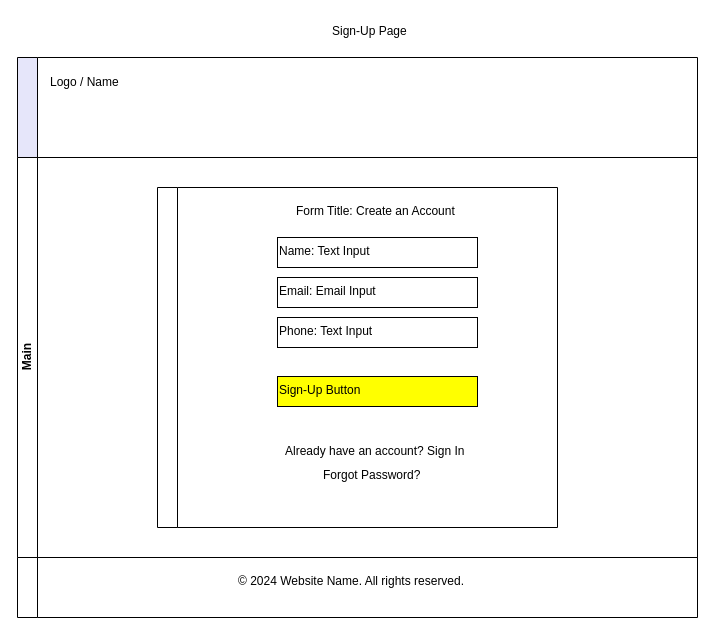
The diagram is 715 pixels wide and 635 high, and some of its shapes have lost their labels. The shapes that lost their labels are listed below. From the top down, each one's box as (x1, y1, x2, y2) in pixels, then its label:
(16, 56, 698, 158): Header
(156, 186, 558, 528): Sign-Up Form
(16, 556, 698, 618): Footer
